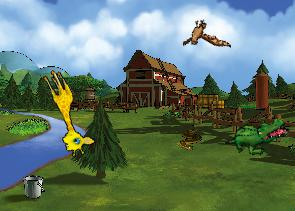crocodile: (223, 103, 292, 168)
eagle: (177, 13, 231, 59)
giraffe: (31, 66, 98, 160)
